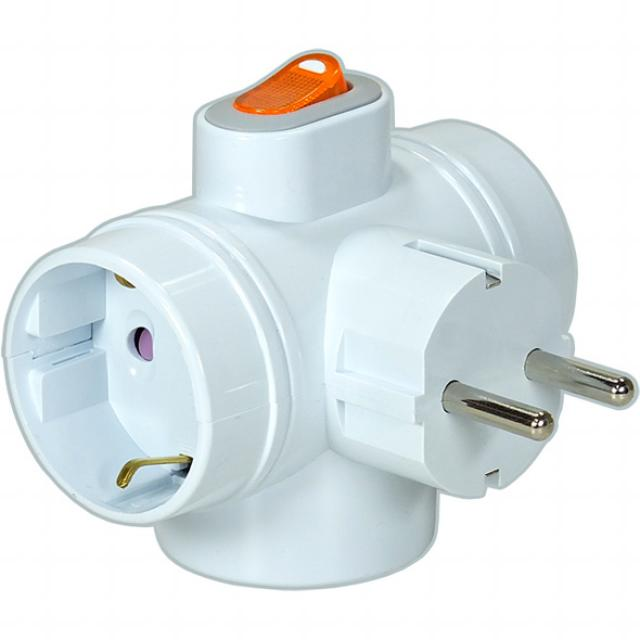typeb: (0, 155, 321, 613)
